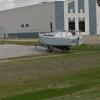Boat: (33, 27, 91, 55)
